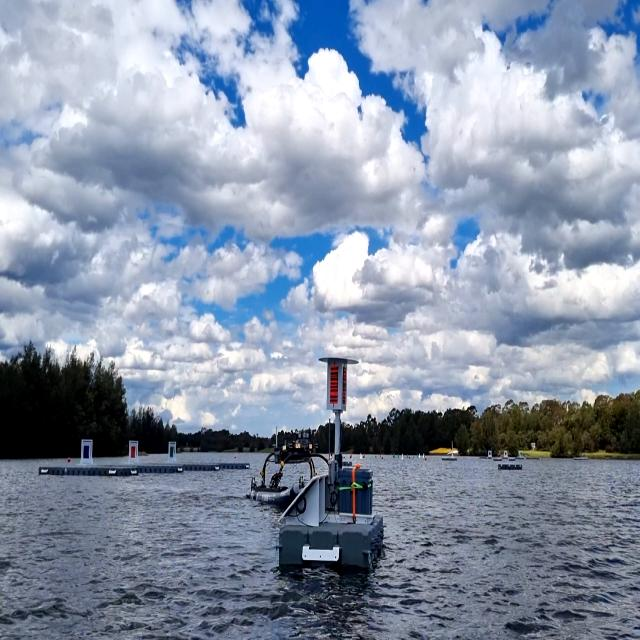led: (329, 362, 340, 408)
